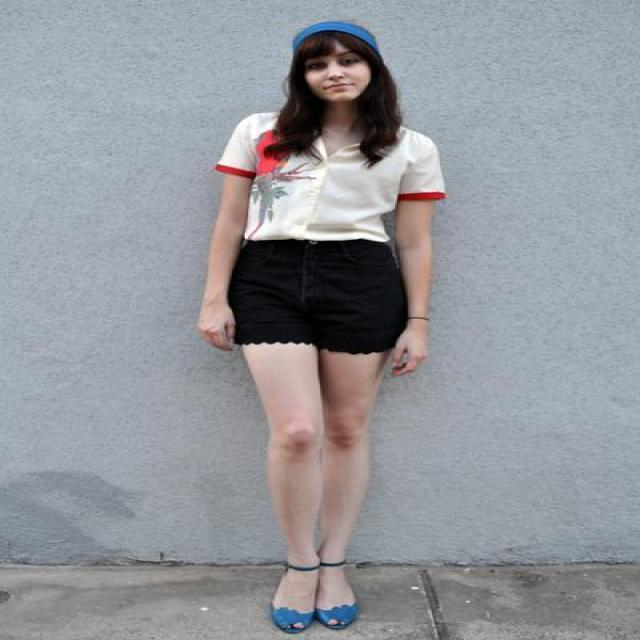shirt: (216, 104, 443, 241)
shoe: (270, 545, 364, 634)
shorts: (227, 235, 411, 356)
